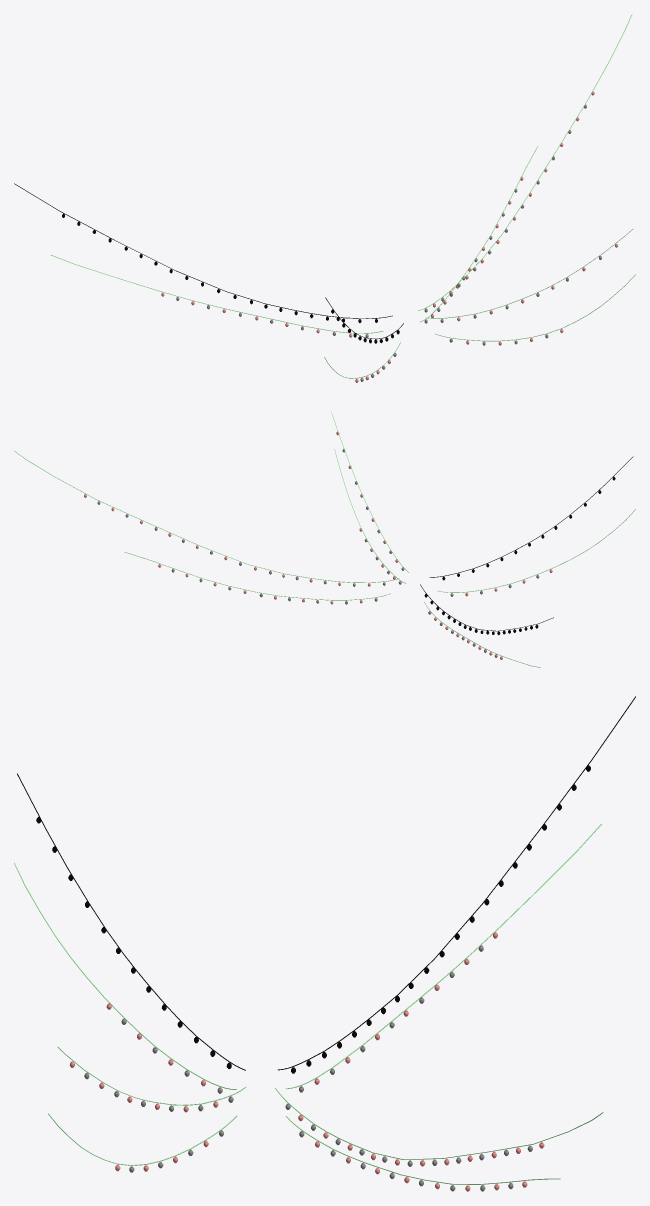
File: SM_ENV_LKNVLD_Event_HL_Lamps_A.gltf
3 renders of one model, top to bottom at view 1: azimuth 30°, elevation 25°; view 2: azimuth 150°, elevation 25°; view 3: azimuth 270°, elevation 25°, orthographic. The views are drawn at different scales.
Visible parts, largest first — view 1: SM_ENV_LKNVLD_Event_HL_Lamps_A; view 2: SM_ENV_LKNVLD_Event_HL_Lamps_A; view 3: SM_ENV_LKNVLD_Event_HL_Lamps_A.
Part boxes in pixels (left/top/right/bottom): SM_ENV_LKNVLD_Event_HL_Lamps_A: left=14, top=14, right=635, bottom=382; SM_ENV_LKNVLD_Event_HL_Lamps_A: left=14, top=411, right=635, bottom=667; SM_ENV_LKNVLD_Event_HL_Lamps_A: left=14, top=696, right=635, bottom=1191.
Size of the model in its own units: 91.83 by 23.86 by 52.48.
